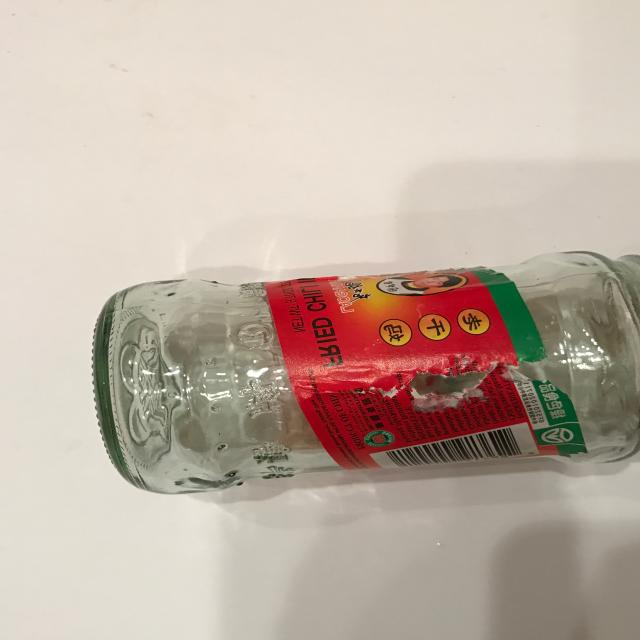glass: (91, 249, 640, 495)
